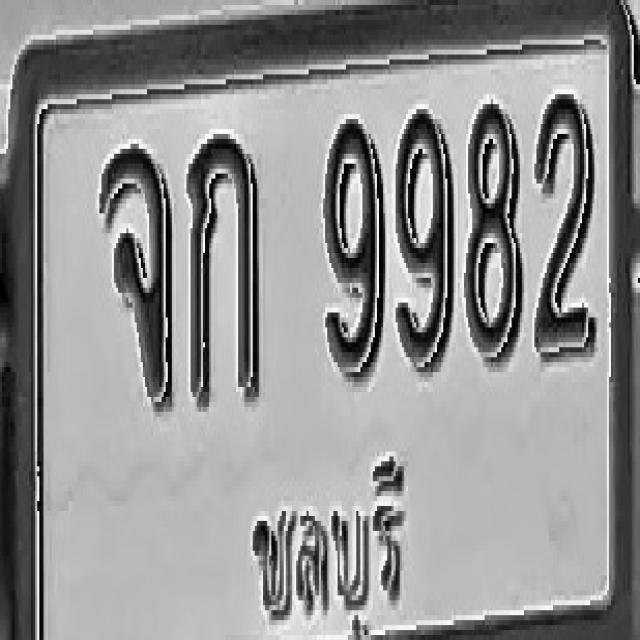10GorGai: (186, 132, 261, 404)
17ChorChan: (100, 146, 173, 410)
2: (534, 90, 596, 358)
8: (465, 99, 523, 362)
9: (324, 116, 384, 380), (396, 104, 454, 372)
Chonburi: (246, 448, 408, 640)
